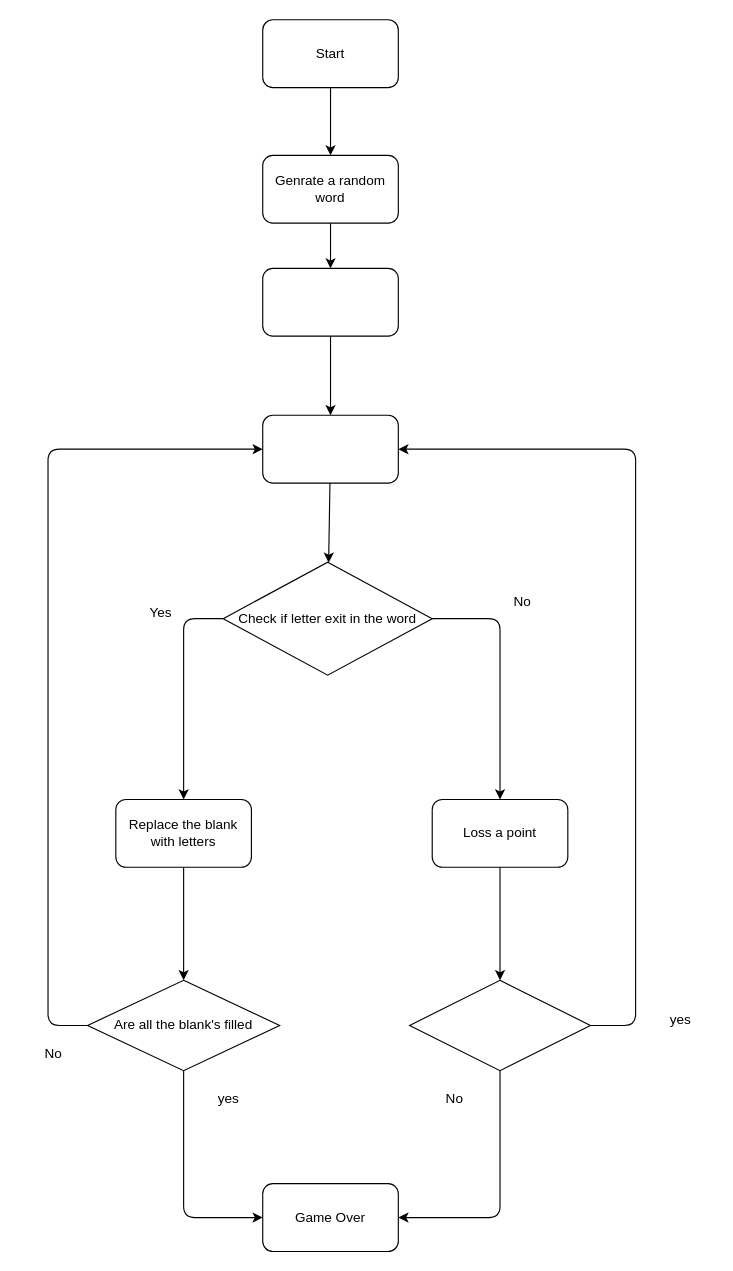
Some shapes in this 733 by 1271 pixel diagram are drawn without their labels. Here are the shapes that lost their labels. From the top down, the centre of each, then its label:
At point (330, 301): "Create a many blank as latter".
At point (330, 448): "Ask the user to enter a latter".
At point (499, 1025): "Any more ponits left".
